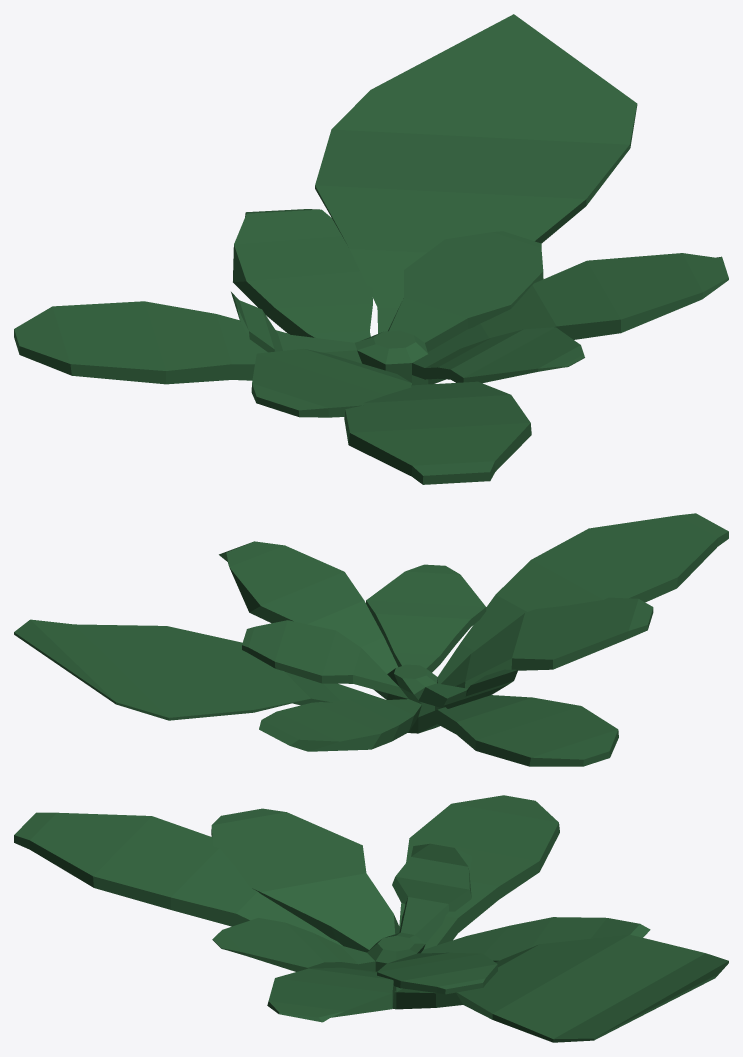
Rendered from forest_bush_.fbx.
The picture shows the model from 3 angles, top to bottom: view 1: azimuth 30°, elevation 25°; view 2: azimuth 150°, elevation 25°; view 3: azimuth 270°, elevation 25°; orthographic projection. The views are drawn at different scales.
Visible parts, largest first — view 1: Forest Bush; view 2: Forest Bush; view 3: Forest Bush.
Boxes of the visible parts, left/top/right/bottom form: Forest Bush: left=14, top=14, right=728, bottom=484; Forest Bush: left=14, top=513, right=728, bottom=766; Forest Bush: left=14, top=795, right=728, bottom=1042.
Size of the model in its own units: 446 by 111 by 486.
